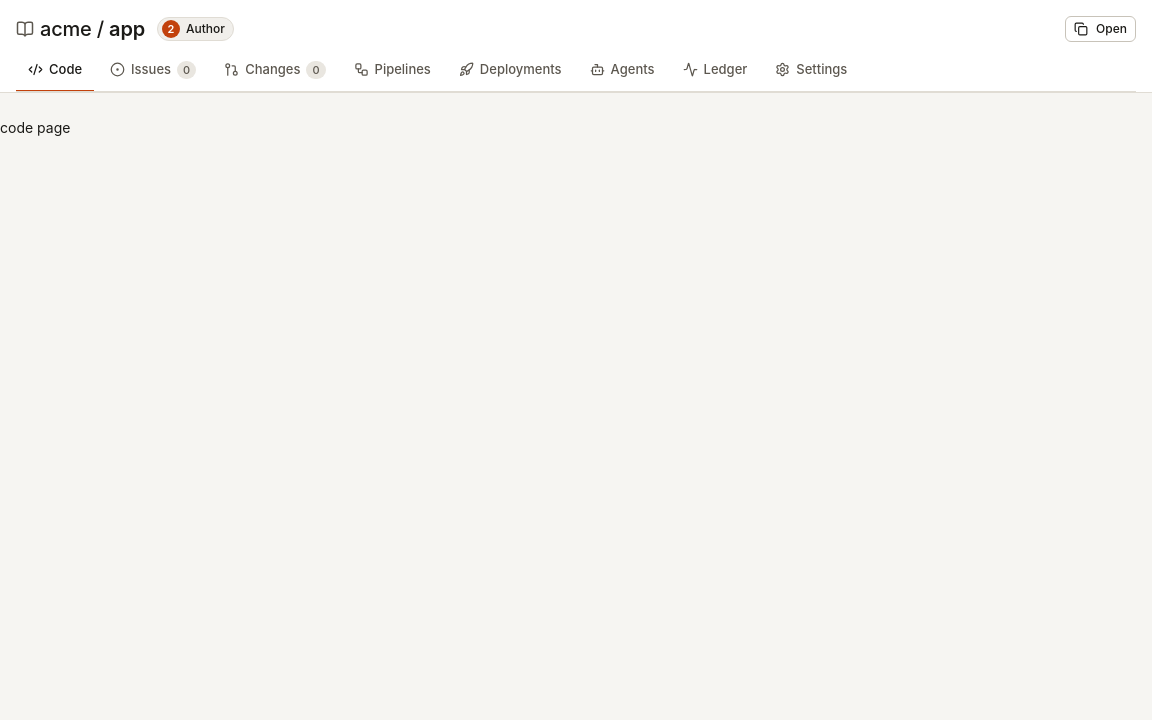
Test: RepoLayout clone dialog follows the git transport mode › off: replaces the clone block with ore login and ore open, with the reason
What coordinates should you click on to do the following:
click the button "Open"
I would click on:
 (1101, 29)
Its box is [1065, 16, 1136, 42].
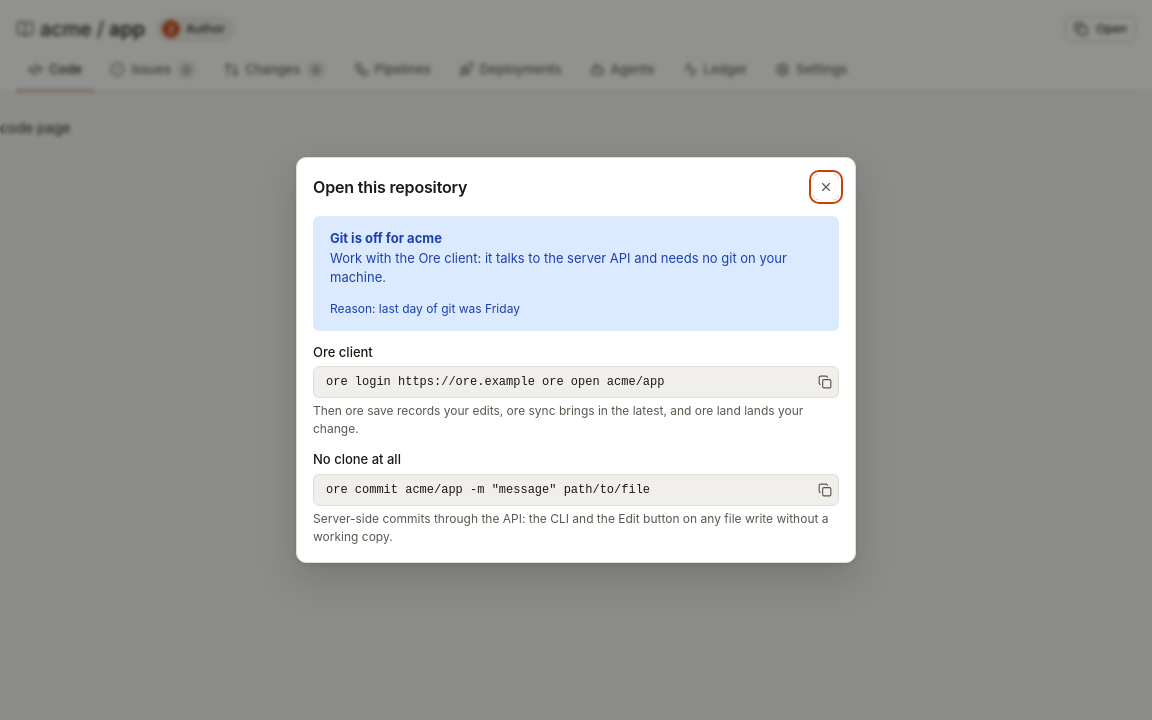
Now the heading "Open this repository" is shown, box [313, 177, 467, 197]
Now the text "Git is off for acme" is shown, box [330, 230, 442, 246]
Now the text "Reason: last day of git was Friday" is shown, box [330, 301, 520, 316]
